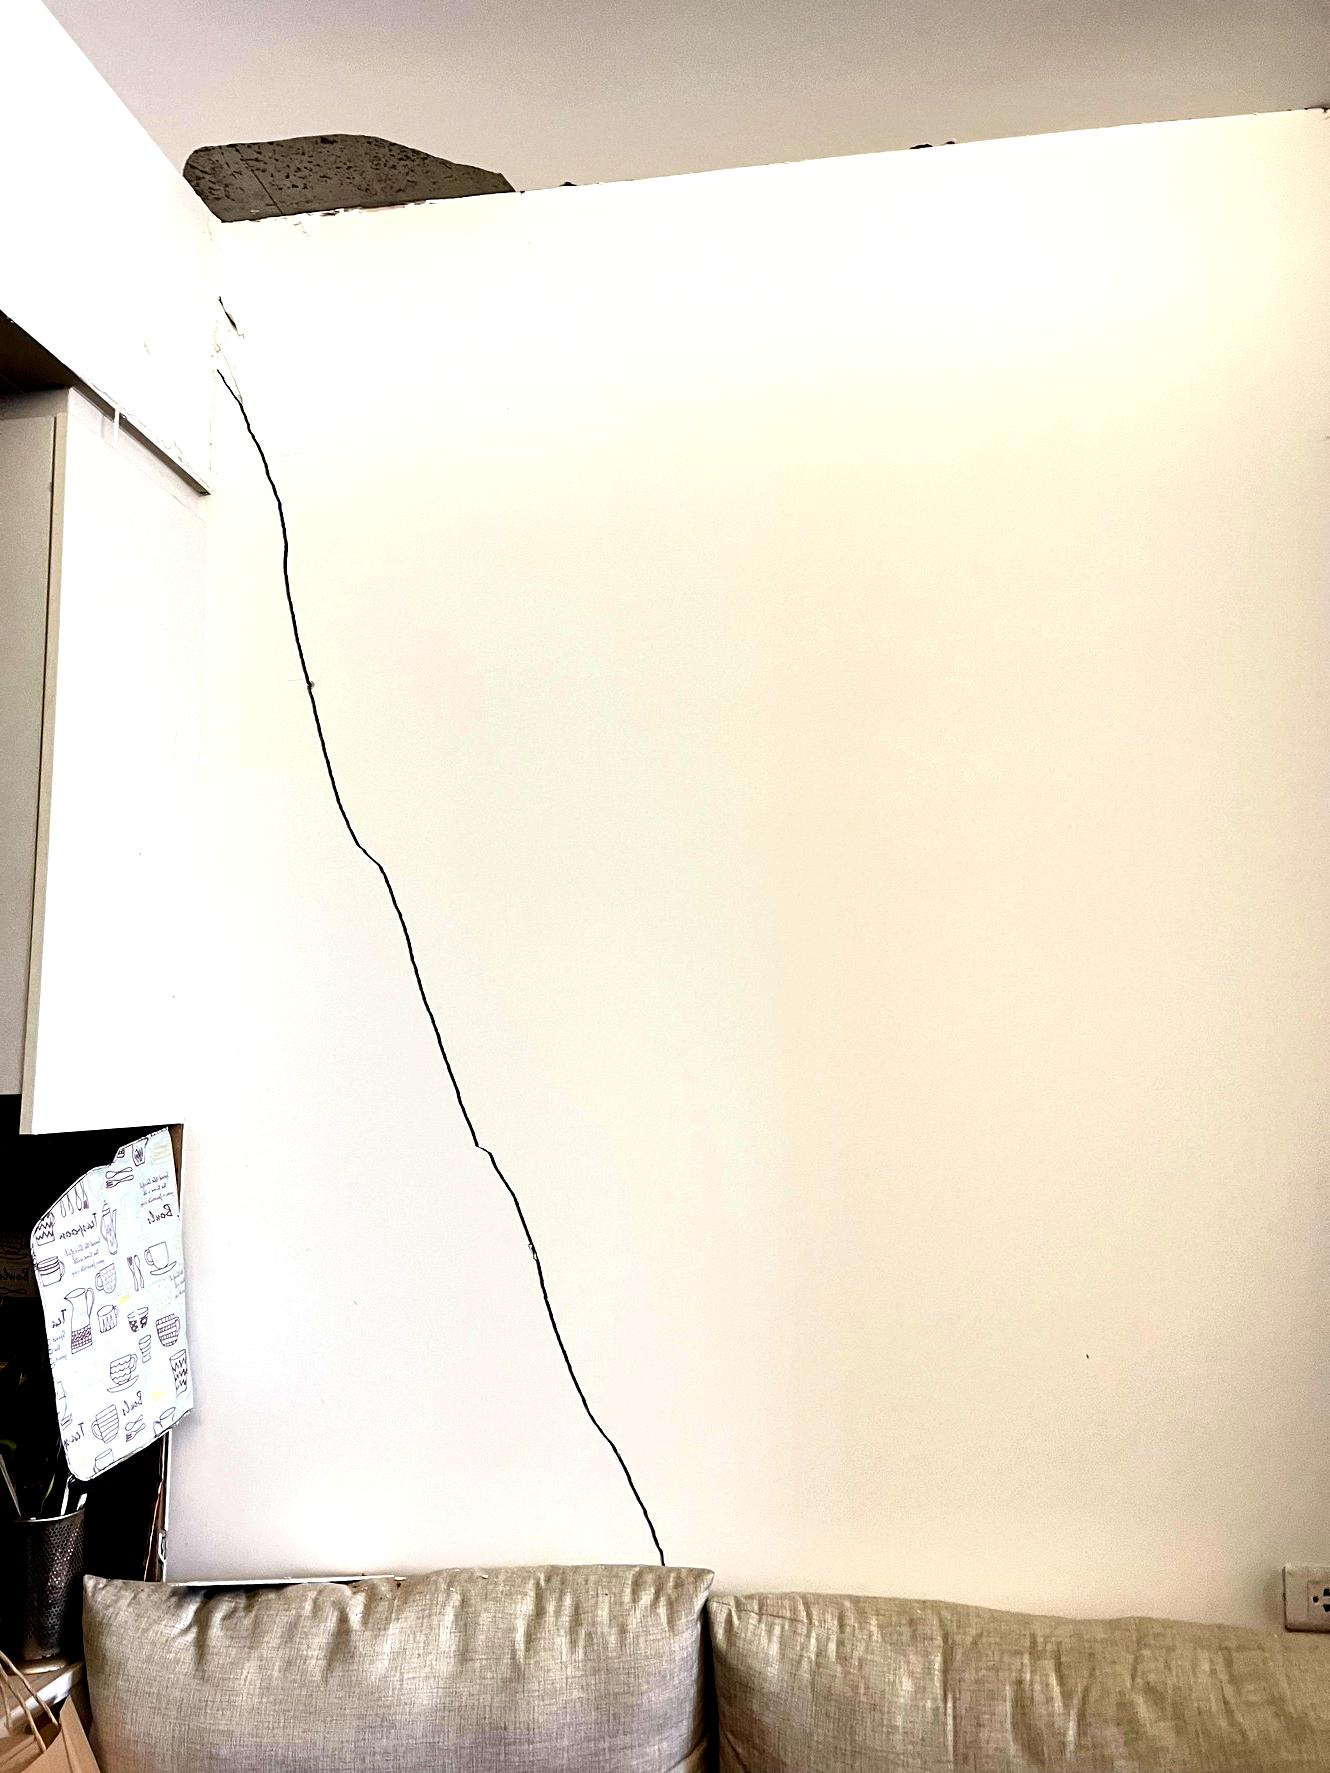High: (176, 108, 767, 1586)
